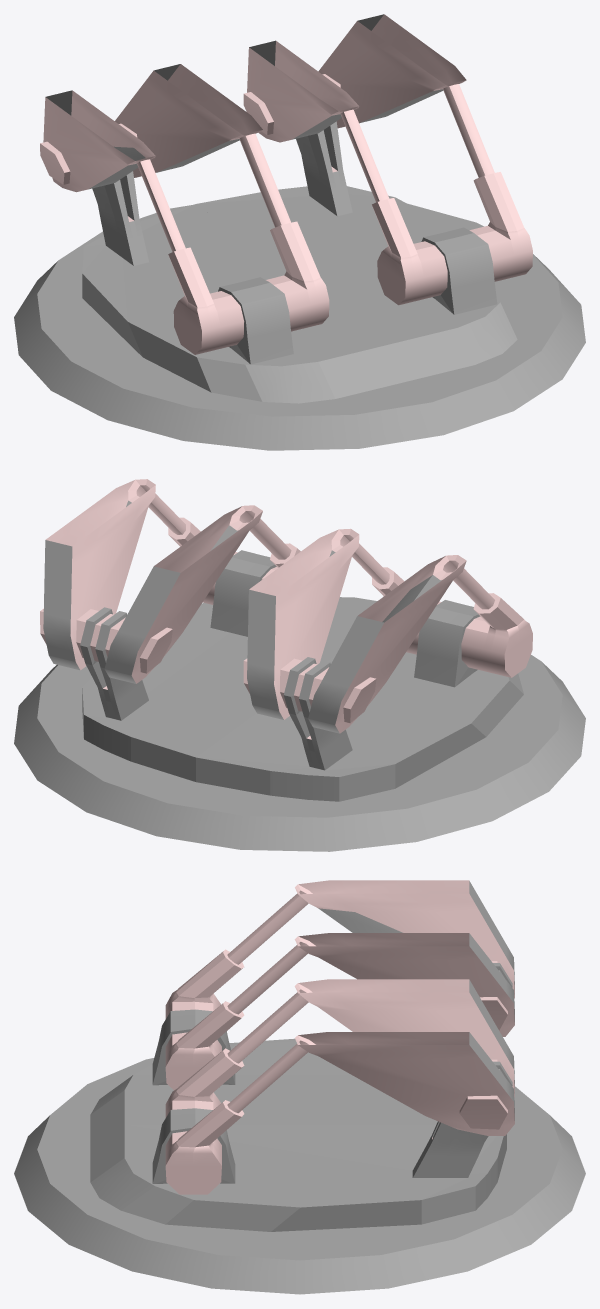
File: SM_MissileLauncher_Bottom.fbx
The picture shows the model from 3 angles, top to bottom: view 1: azimuth 30°, elevation 25°; view 2: azimuth 150°, elevation 25°; view 3: azimuth 270°, elevation 25°; orthographic projection.
Parts seen in each view (by area): view 1: GEOM_AAGun1; view 2: GEOM_AAGun1; view 3: GEOM_AAGun1.
Part boxes in pixels (left/top/right/bottom): GEOM_AAGun1: left=14, top=14, right=585, bottom=450; GEOM_AAGun1: left=14, top=479, right=585, bottom=851; GEOM_AAGun1: left=14, top=880, right=585, bottom=1294.
Size of the model in its own units: 76.14 by 30.98 by 76.14.
